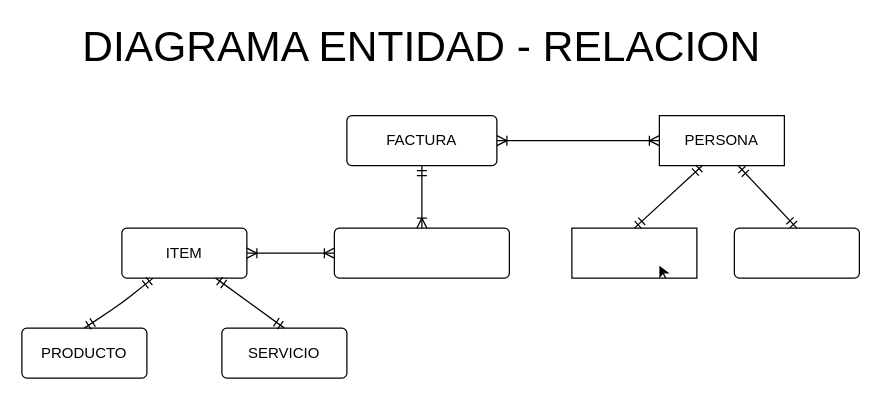
This 881x400 diagram has some shape labels left out. The shapes that lost their labels are listed below. From the top down, each one's centre as x and y in pixels, then its label:
pixel 421 252: DETALLE_FACTURA
pixel 634 252: CLIENTE
pixel 796 252: FACTURADOR
